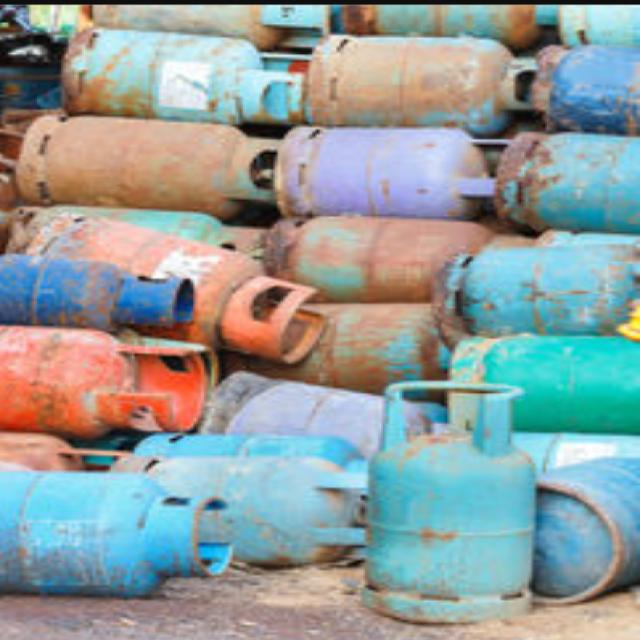cylinder: (364, 381, 537, 620), (1, 472, 232, 596), (15, 115, 284, 220), (62, 26, 310, 126), (3, 326, 205, 438)
